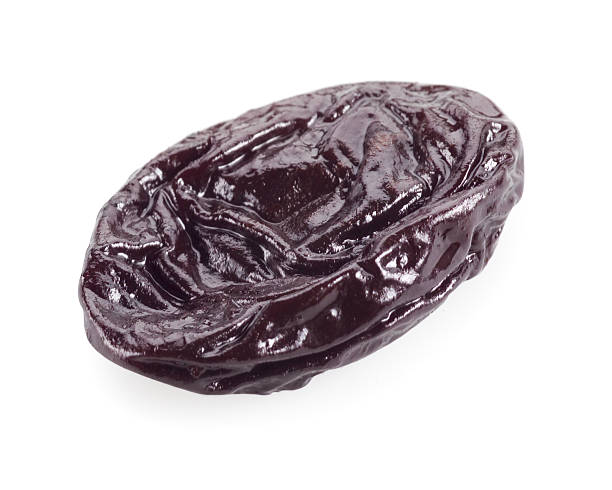raisin: (79, 80, 524, 396)
